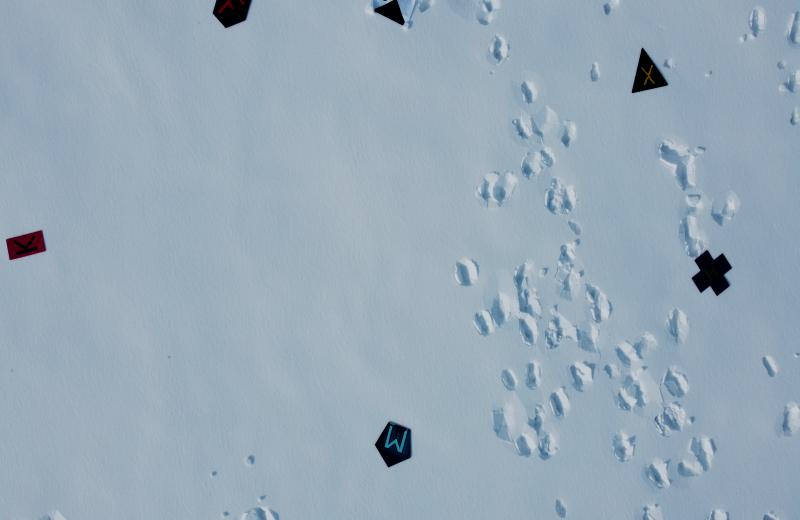Cross: (694, 249, 734, 296)
Hexagon: (210, 0, 255, 29)
Pentagon: (373, 419, 415, 469)
Rectangle: (5, 228, 48, 261)
Triangle: (629, 48, 670, 95)
